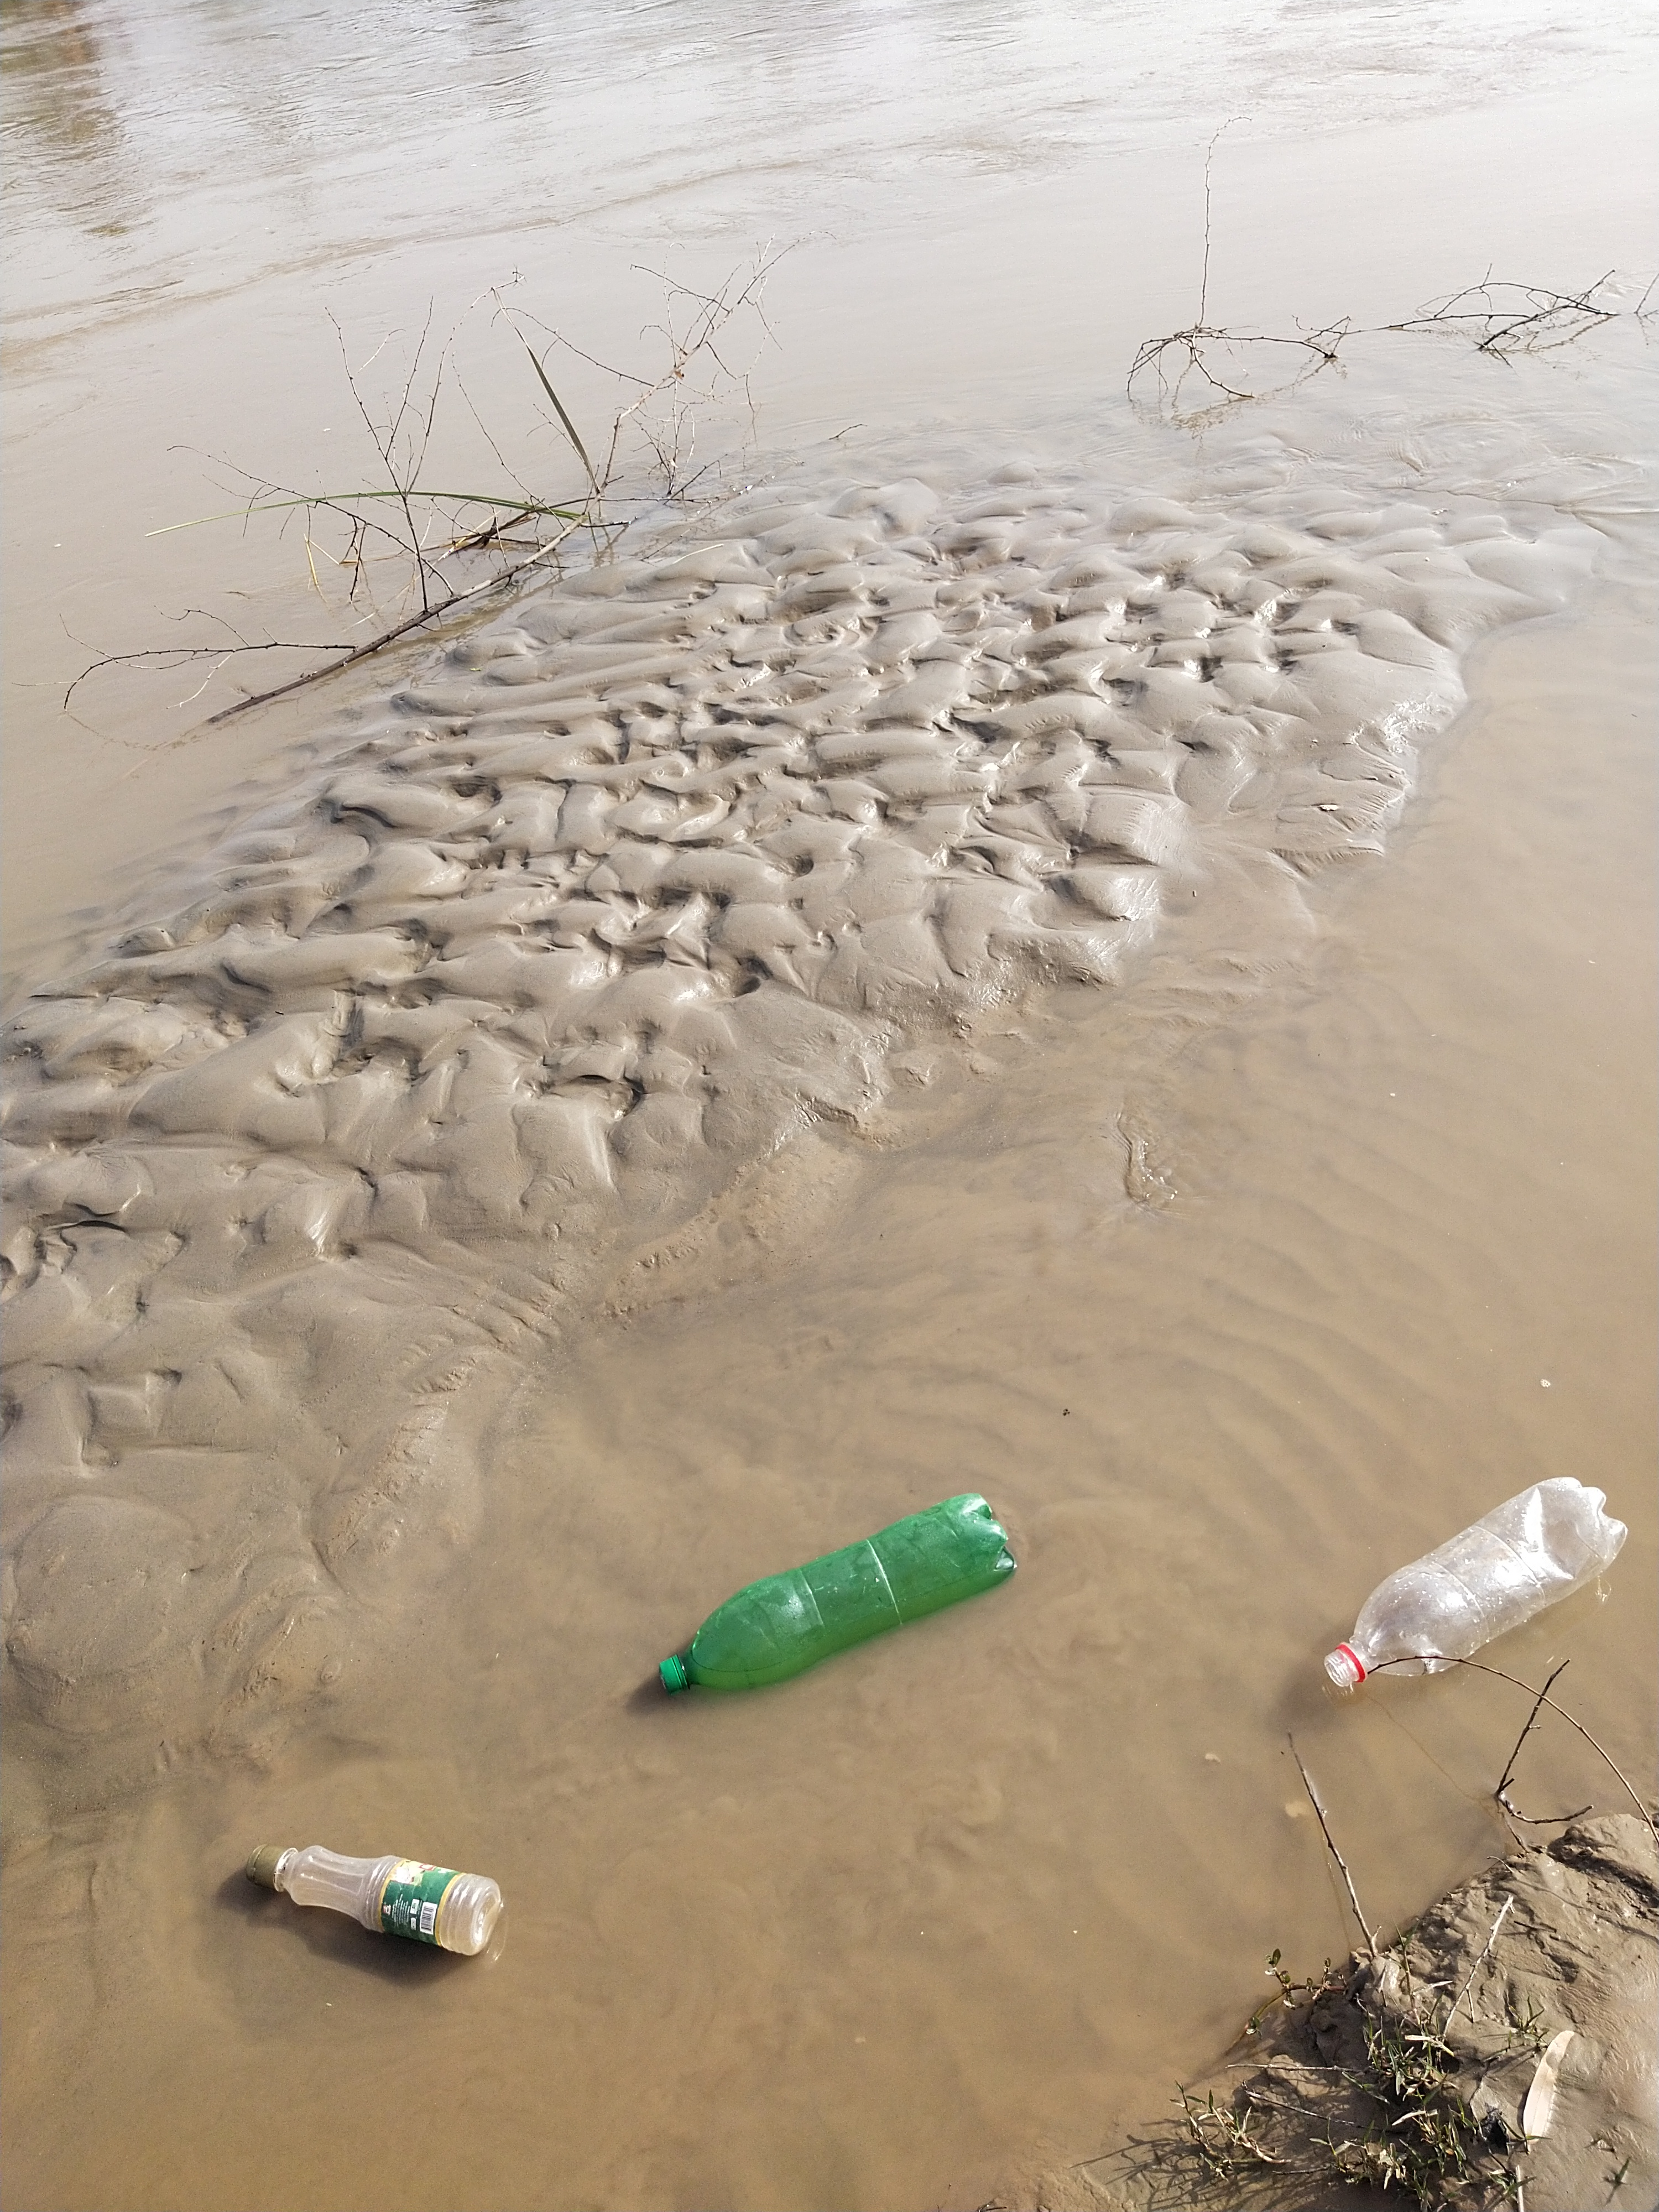Plastic Bottle: (659, 1493, 1016, 1695), (1324, 1477, 1628, 1688), (246, 1844, 500, 1956)
